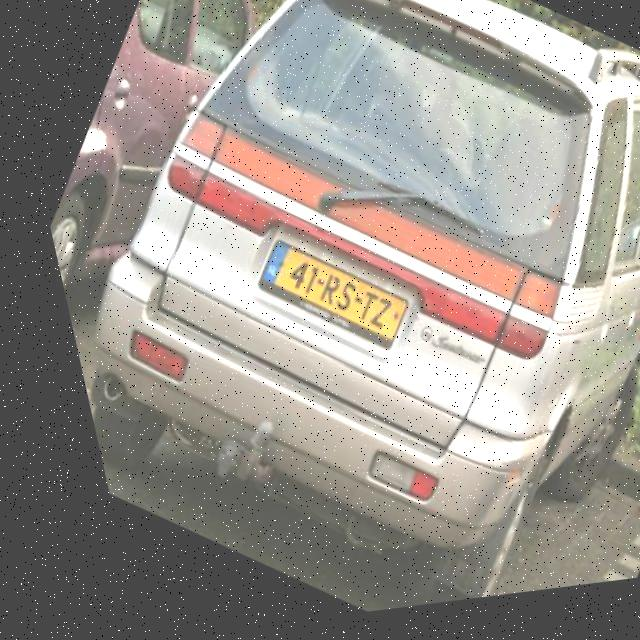license_plate: (232, 230, 405, 371)
